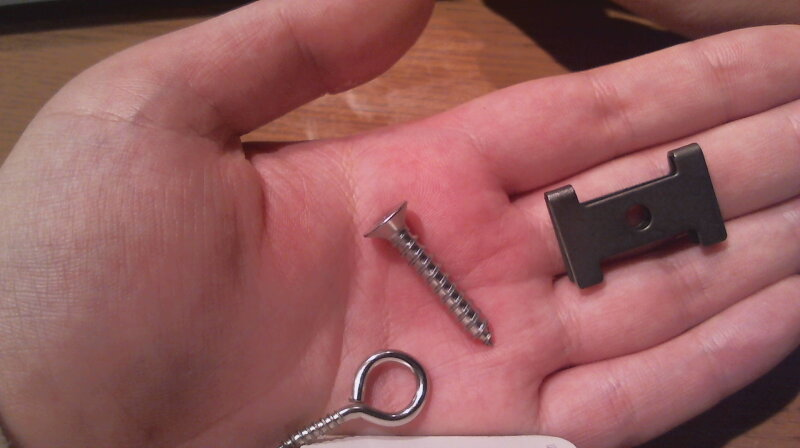O001: (273, 351, 437, 448)
O002: (540, 144, 726, 288)
S001: (360, 199, 496, 348)
